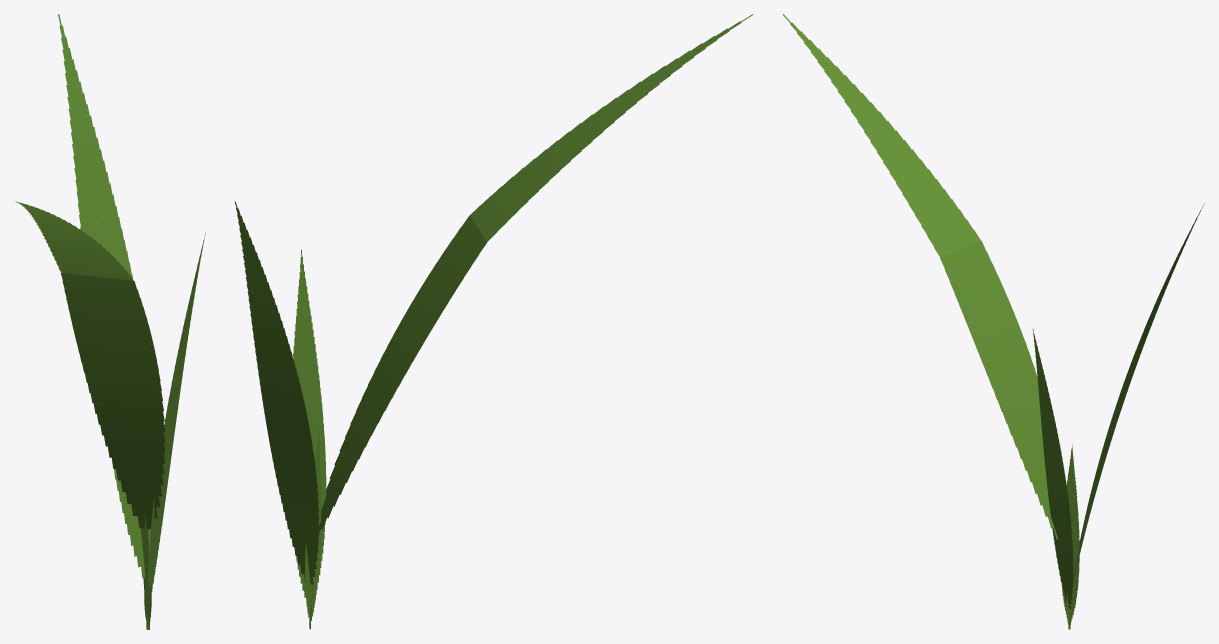
File: maize_002_day_045.dae
3 views of the same model, side by side, from view 1: azimuth 30°, elevation 25°; view 2: azimuth 150°, elevation 25°; view 3: azimuth 270°, elevation 25° (orthographic). The views are drawn at different scales.
Parts seen in each view (by area): view 1: node; view 2: node; view 3: node.
Boxes of the visible parts, x1,y1,x2,y2 form: node: [14, 14, 205, 629]; node: [234, 14, 753, 629]; node: [782, 14, 1204, 629].
Bounding box in the file's own units: 0.1336 × 0.2317 × 0.1791.
1 material, 1 textured.
